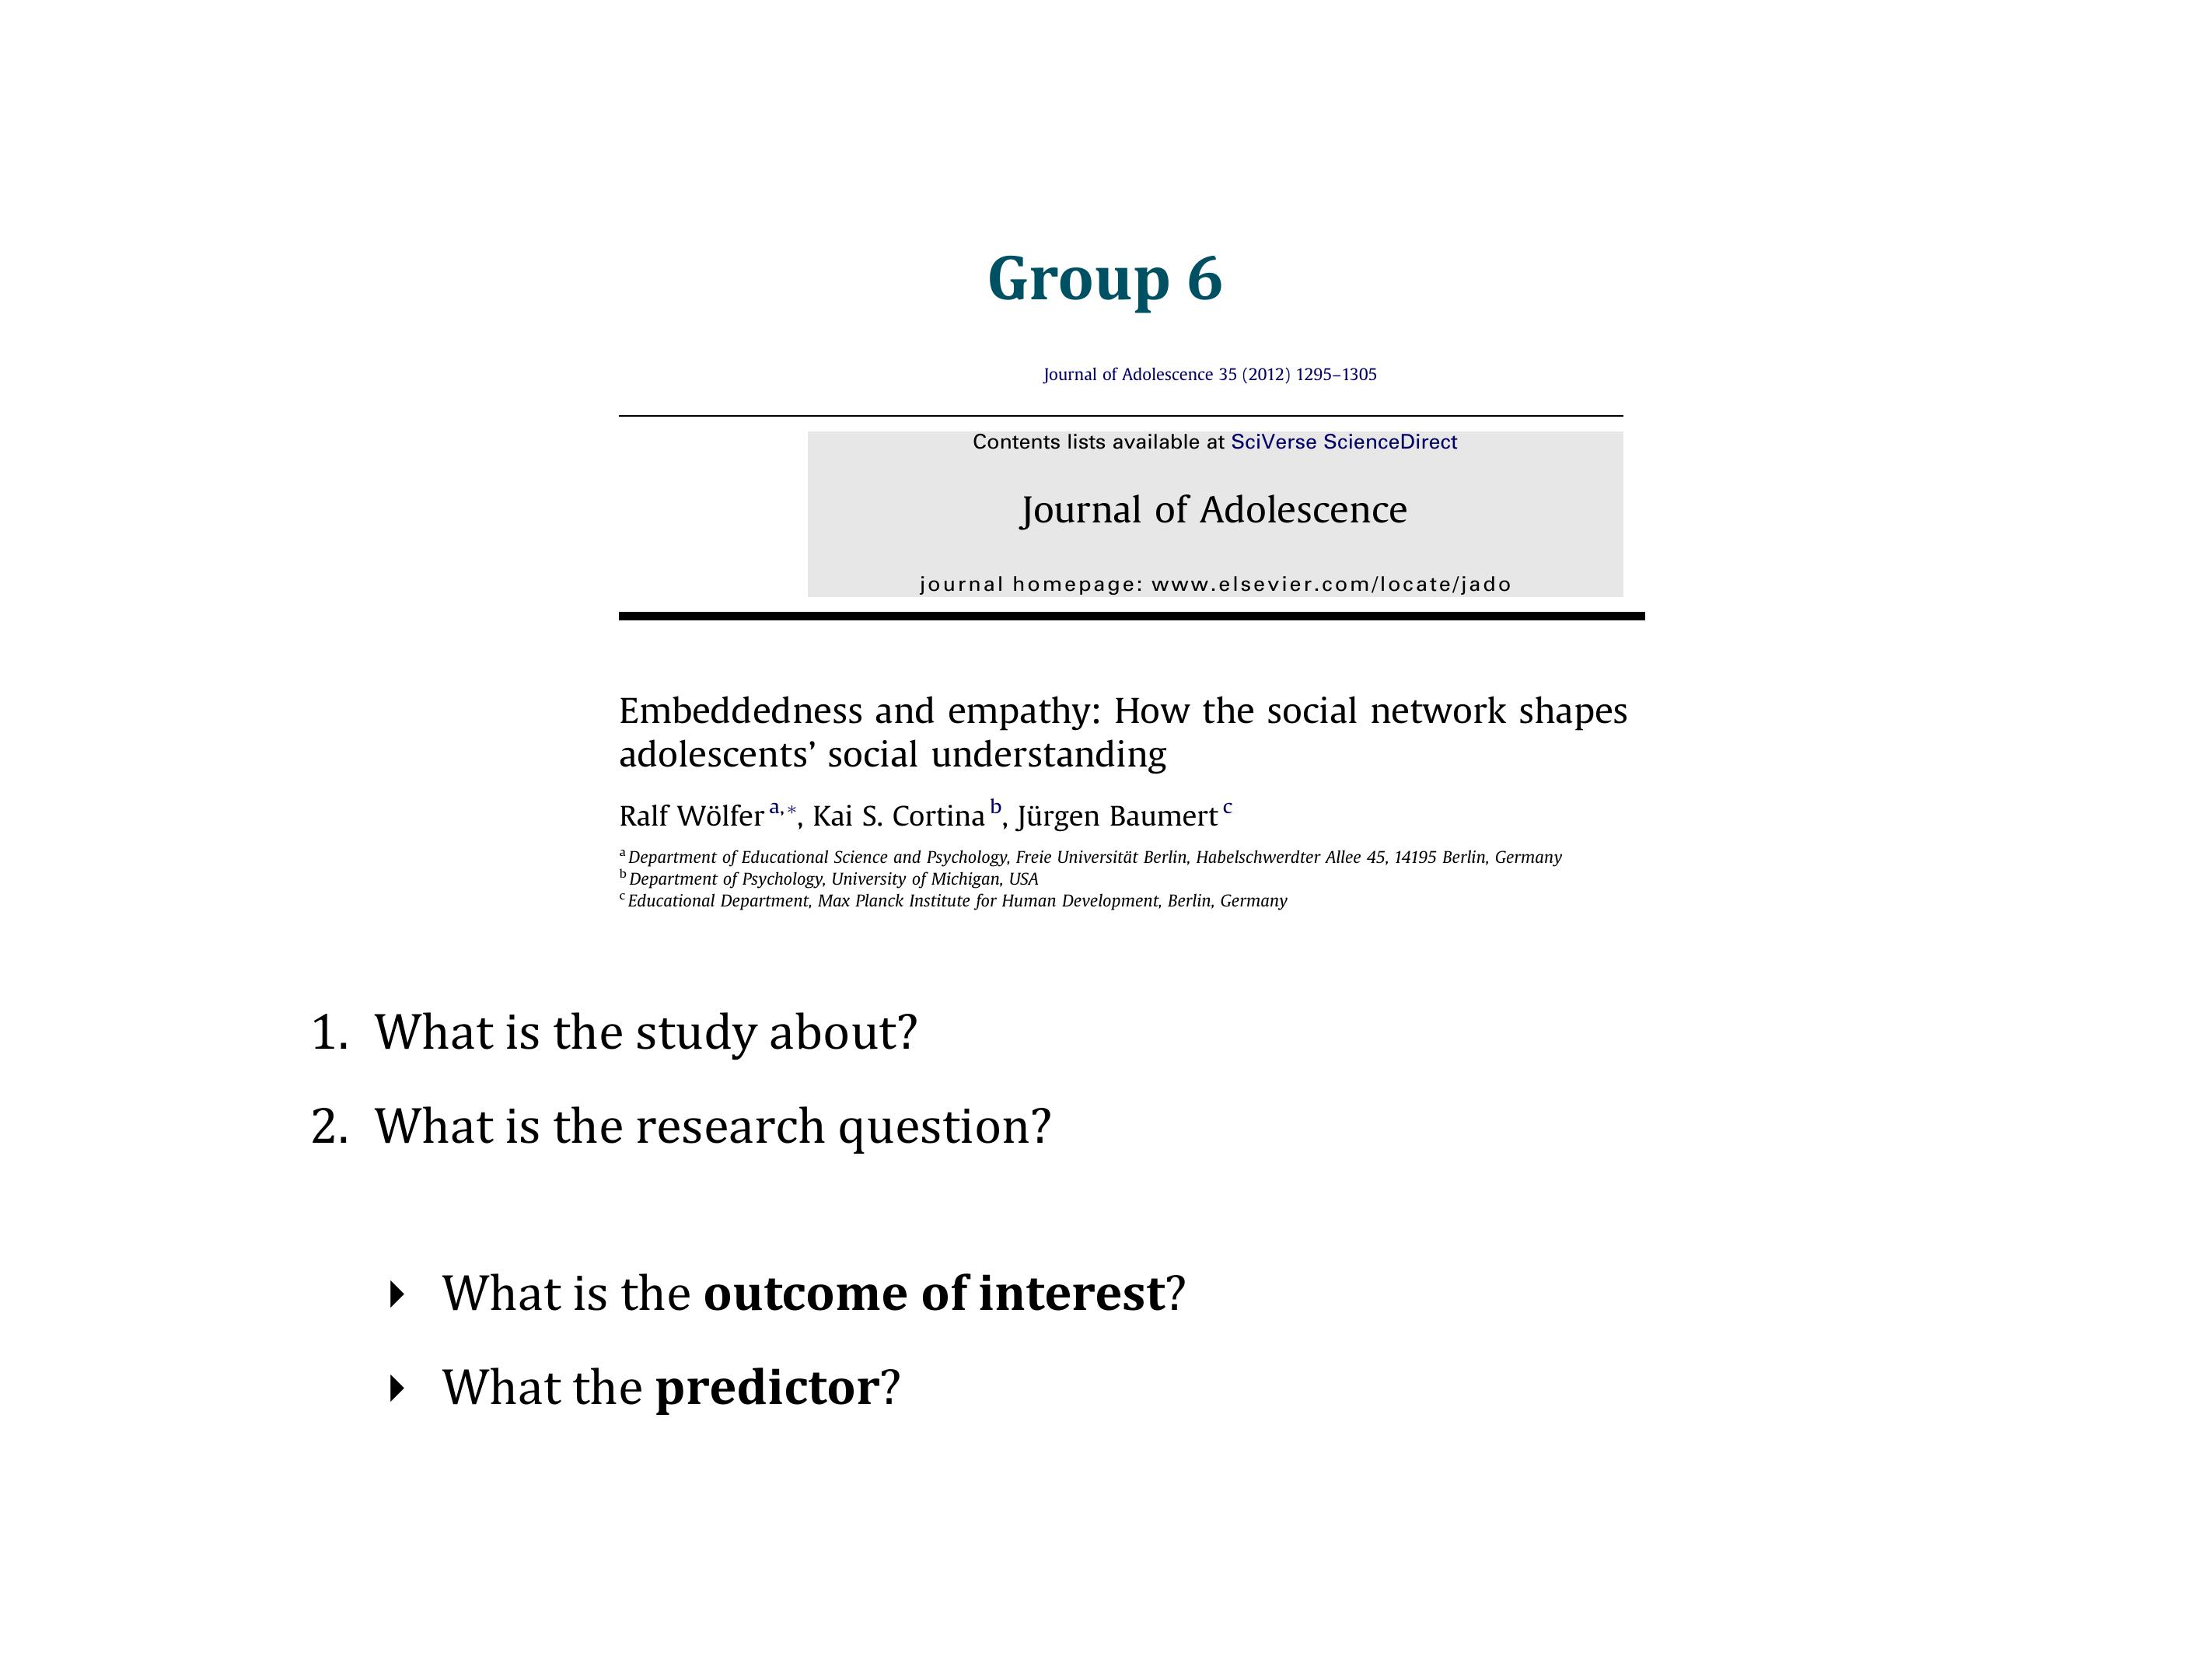Title: (957, 230, 1246, 319)
